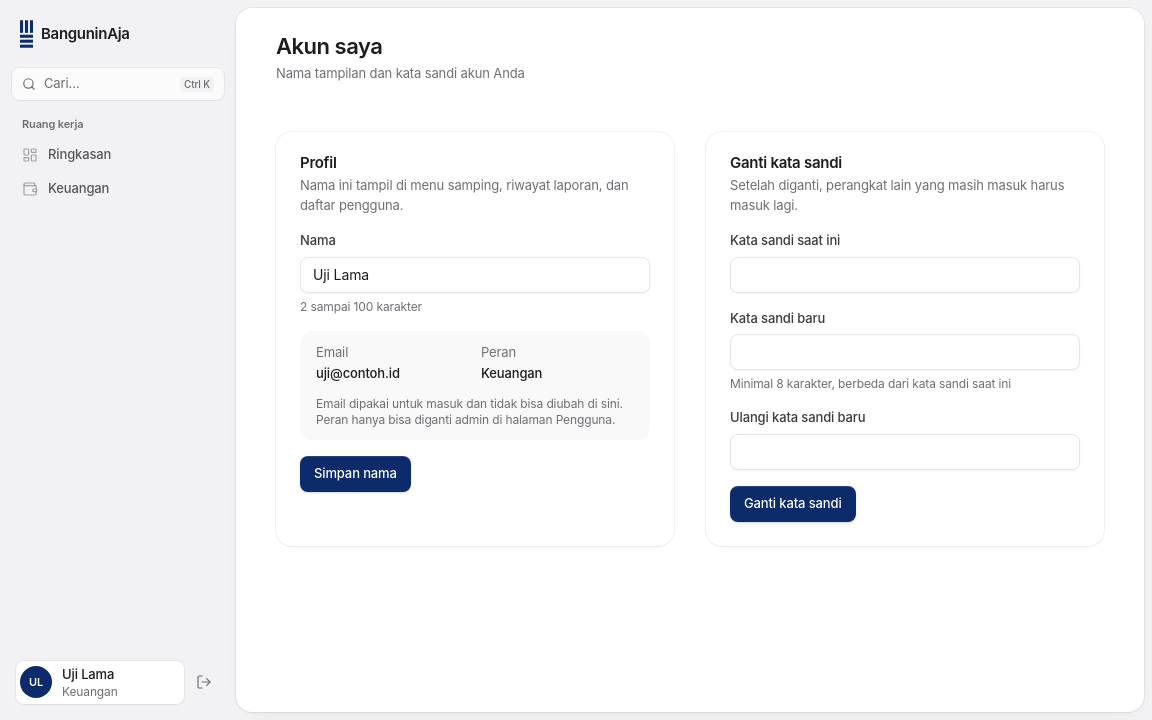
Test case: AccountPage profile › shows email and role read-only and saves a trimmed name into the session
Check: the text "uji@contoh.id" is shown, box [316, 365, 400, 381]
Check: the link "Keuangan" is shown, box [22, 180, 109, 197]
Replace the text in the field labelled "Nama" with "  Uji Baru  ". click: (475, 274)
box: [300, 256, 650, 292]
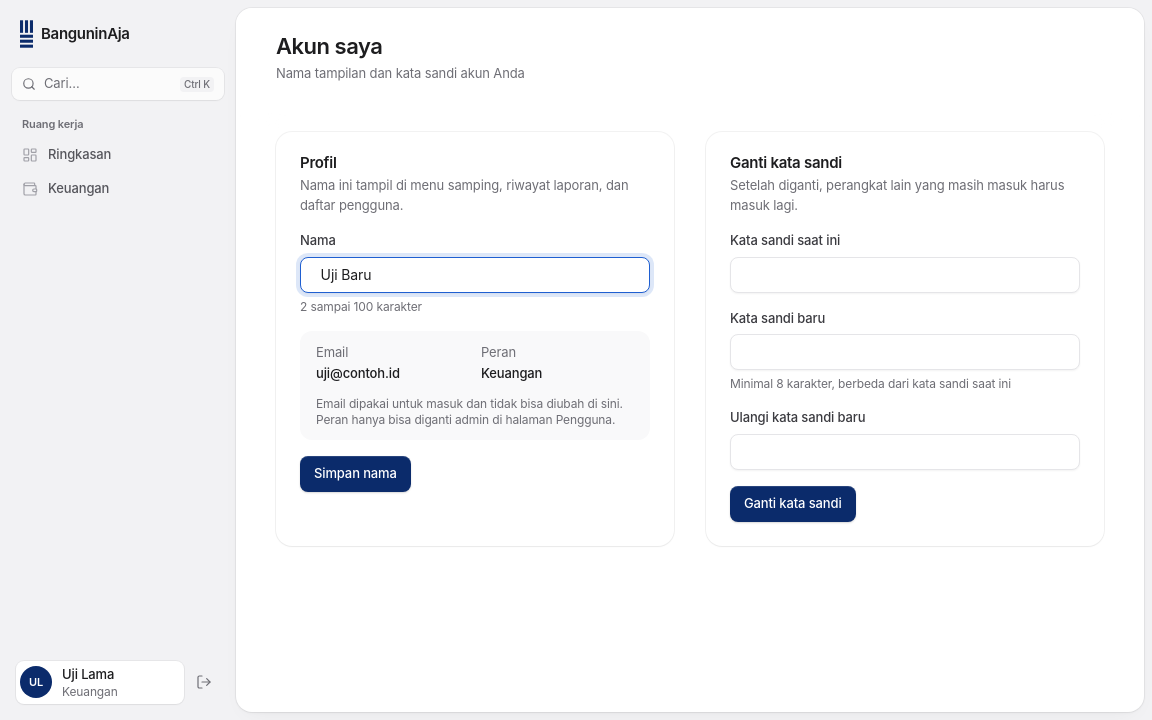
Click the button "Simpan nama". click: (355, 474)
box: [300, 456, 411, 492]
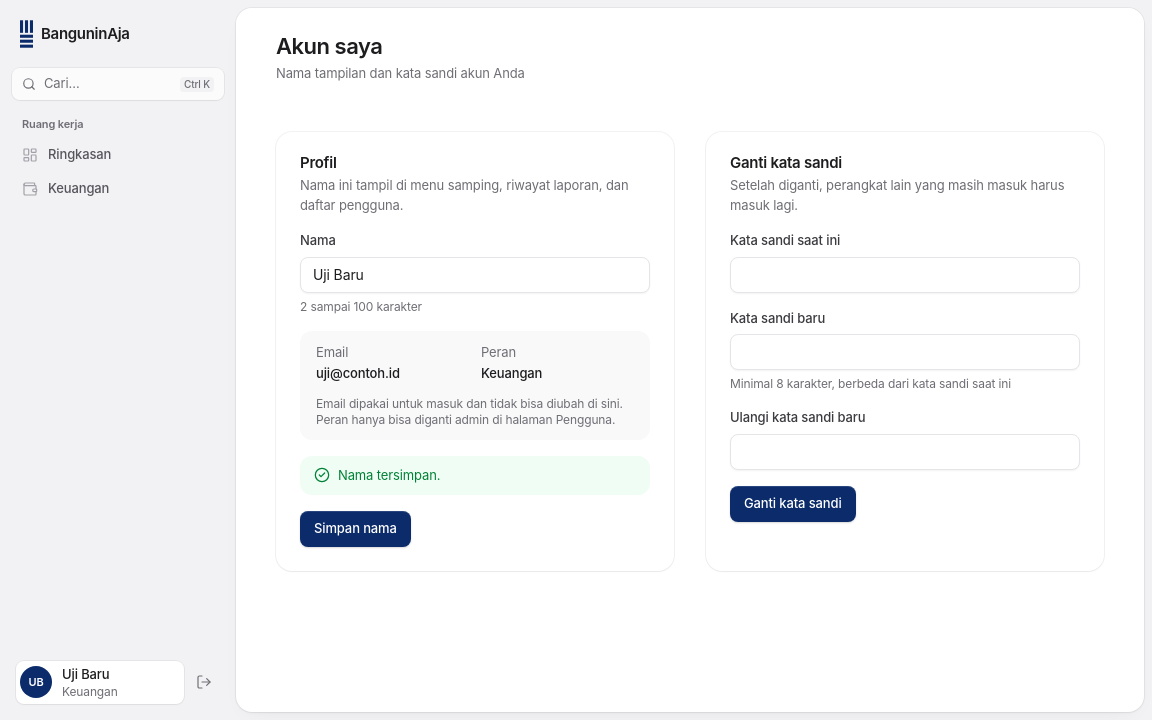
Check: the text "Nama tersimpan." is shown, box [300, 456, 650, 495]
Check: the text "Uji Baru" is shown, box [62, 666, 109, 682]
